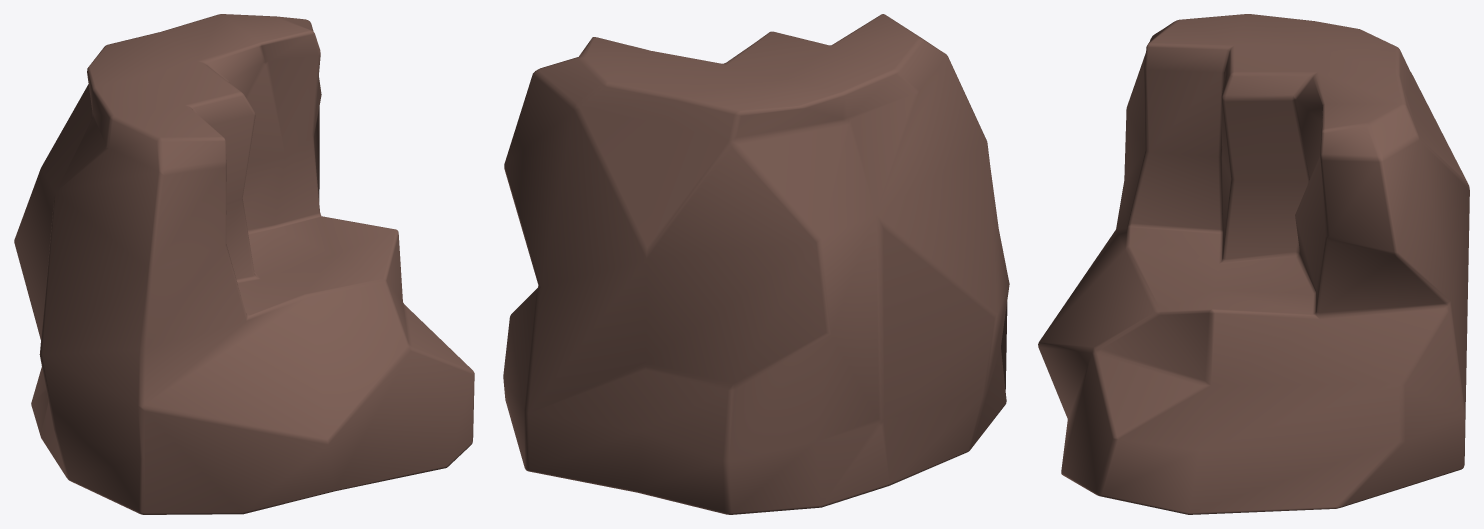
File: rock2.fbx
3 renders of one model, left to right at view 1: azimuth 30°, elevation 25°; view 2: azimuth 150°, elevation 25°; view 3: azimuth 270°, elevation 25°, orthographic. The views are drawn at different scales.
Parts seen in each view (by area): view 1: rock2; view 2: rock2; view 3: rock2.
Part boxes in pixels (box(x1,y1,x2,y2)): rock2: box(14, 14, 474, 514); rock2: box(503, 14, 1009, 514); rock2: box(1038, 14, 1469, 514).
Bounding box in the file's own units: 1.46 × 1.18 × 1.35.
